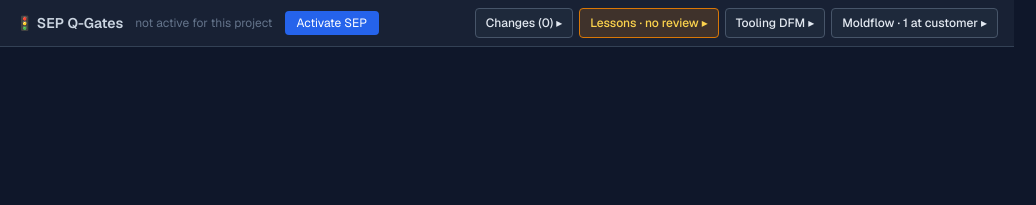
Test: ProjectStatusNav › shows the Moldflow chip and opens the per-tool overview in the panel
Click the button with test id "status-nav-moldflow".
click(915, 23)  # box [831,8,998,38]
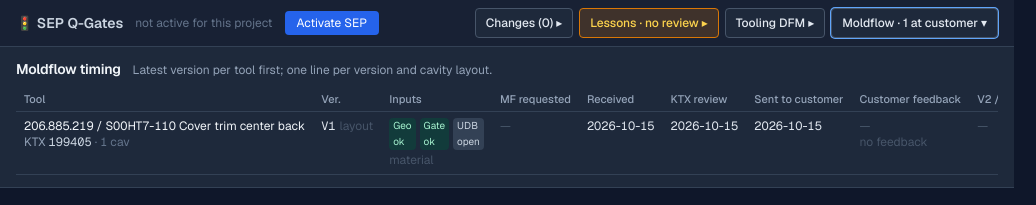
Expected: the table with test id "mf-tool-199405" shows "206.885.219 / S00HT7-110 Cover trim center back", [24,118,305,134]
Click the button "Changes (0) ▸".
click(524, 23)  # box [475,8,573,38]
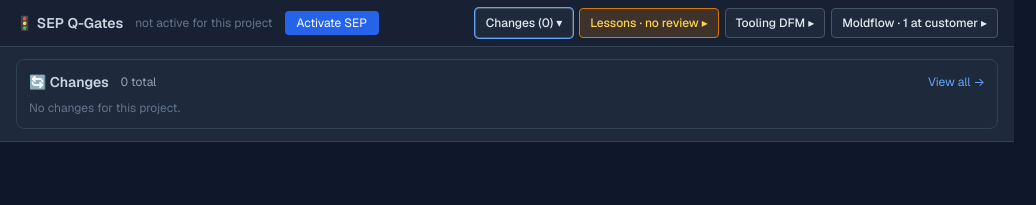
Expected: the element with test id "moldflow-panel" is gone
